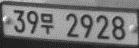2: (65, 12, 78, 38), (96, 14, 109, 39)
3: (12, 9, 26, 33)
8: (111, 15, 126, 40)
9: (79, 13, 93, 38), (26, 9, 39, 34)
무: (40, 11, 54, 35)
